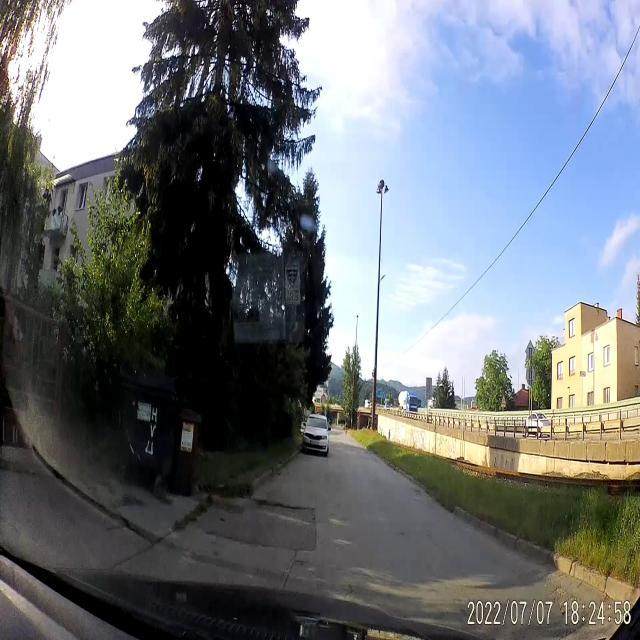Pothole: (252, 493, 318, 521)
